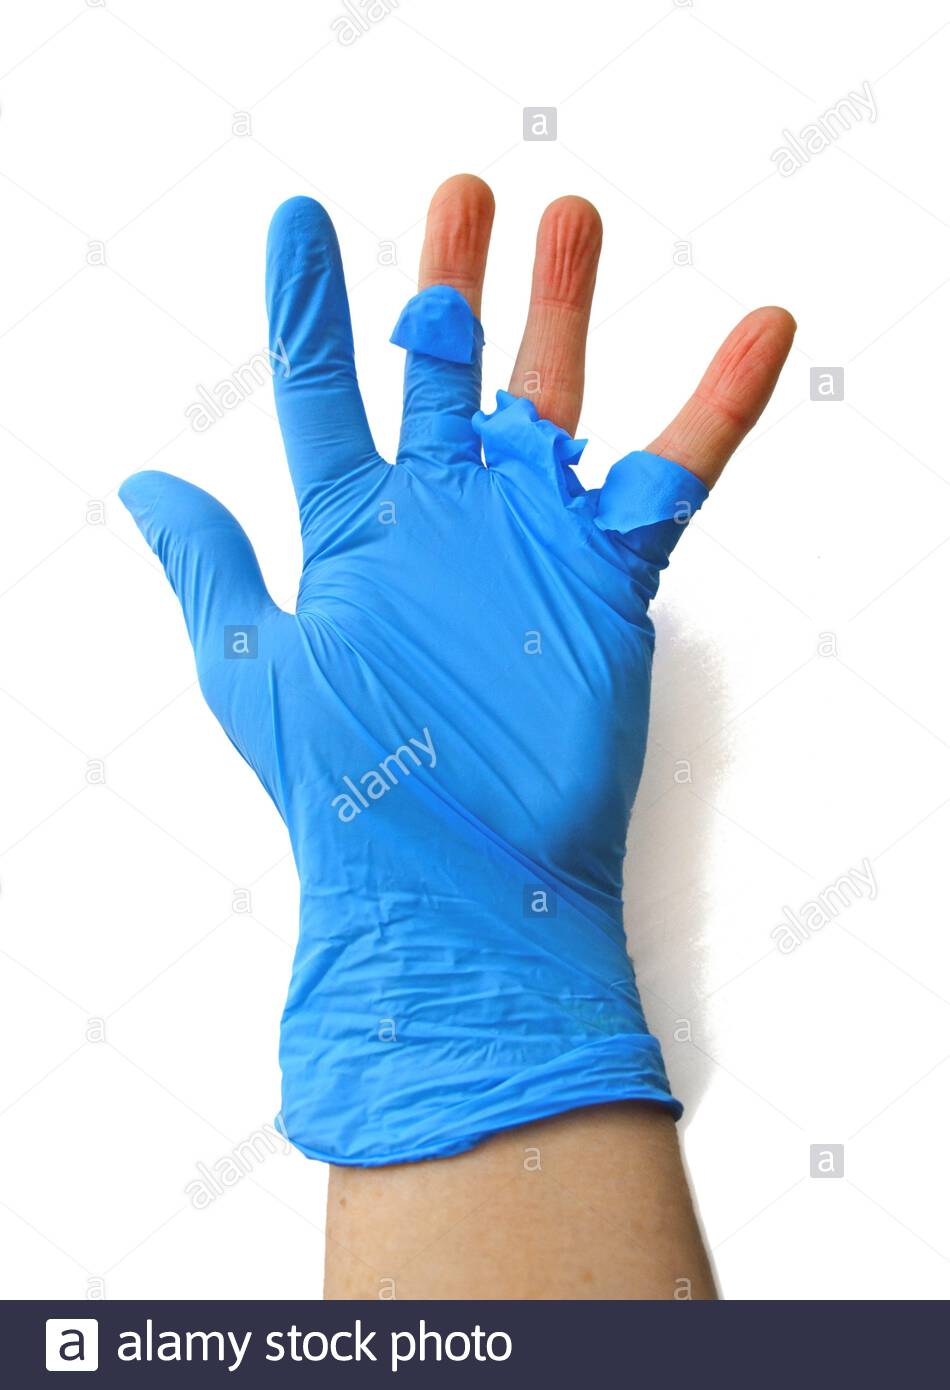defected: (135, 150, 950, 1004)
